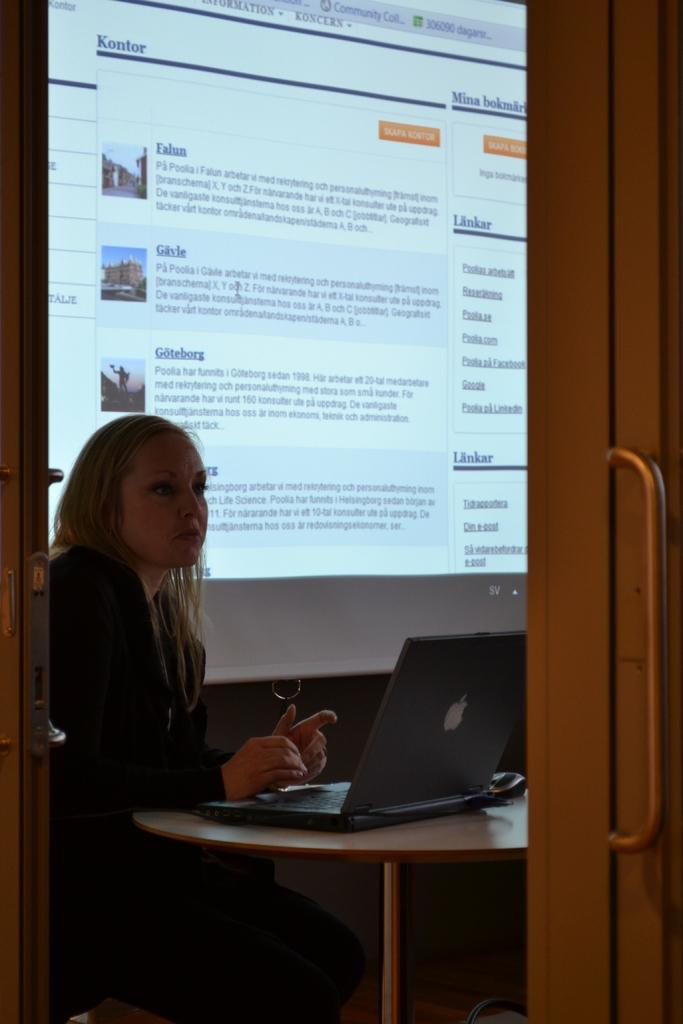Laptop: (233, 639, 522, 866)
